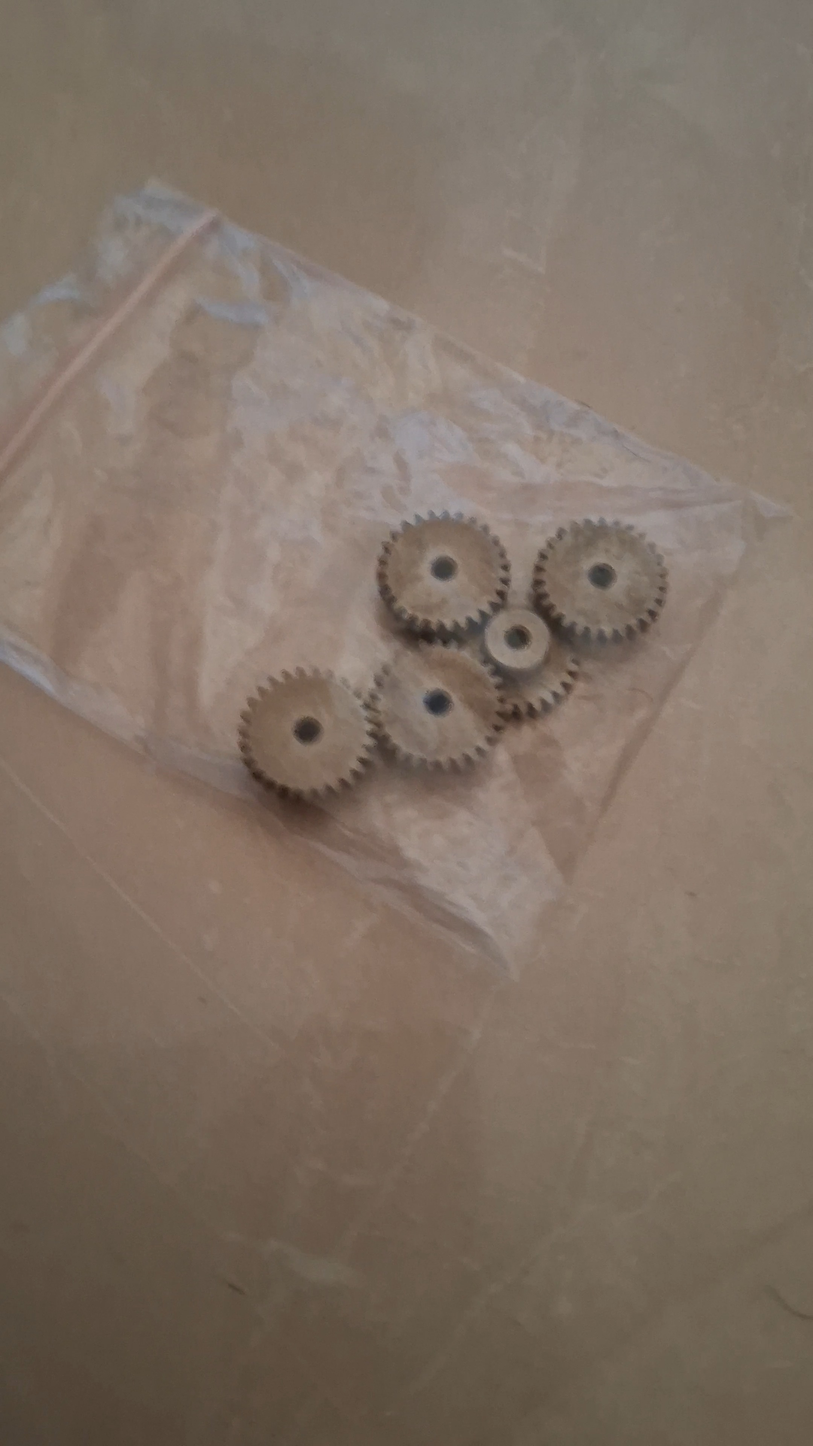spur gear: (239, 668, 377, 799), (377, 513, 510, 641), (534, 519, 667, 642), (378, 643, 504, 769), (481, 608, 579, 720)
